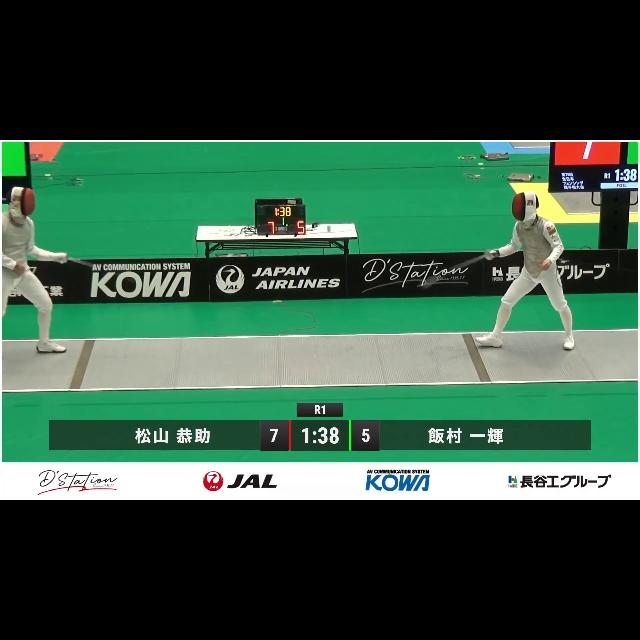blade: (416, 245, 502, 293), (54, 249, 142, 287)
